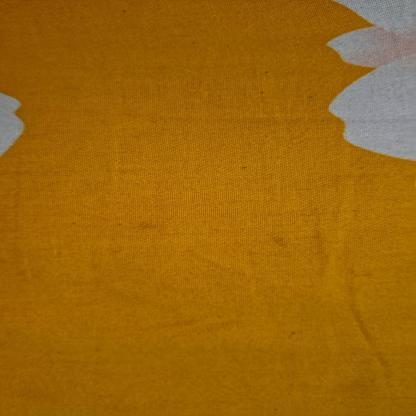spot: (127, 216, 164, 232), (266, 232, 292, 250)
